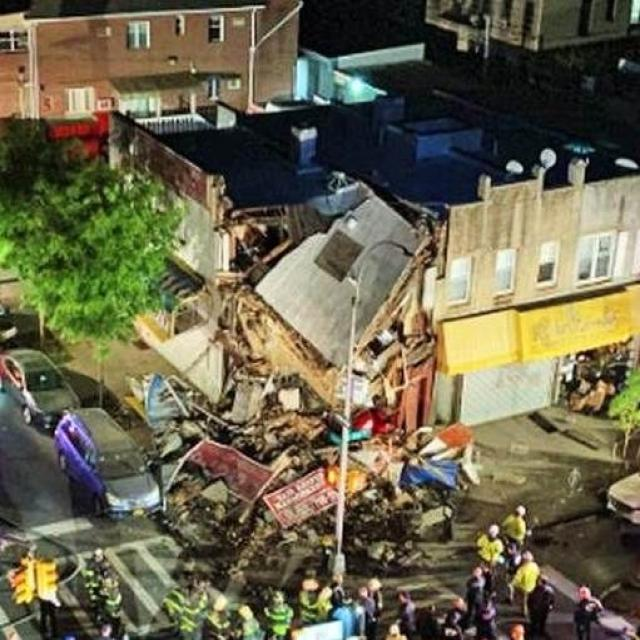collapsed_building: (219, 204, 442, 547)
